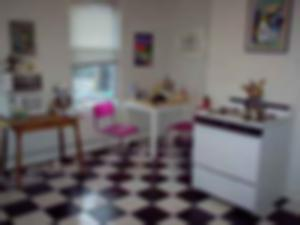Electrodomestico: (186, 109, 289, 206)
